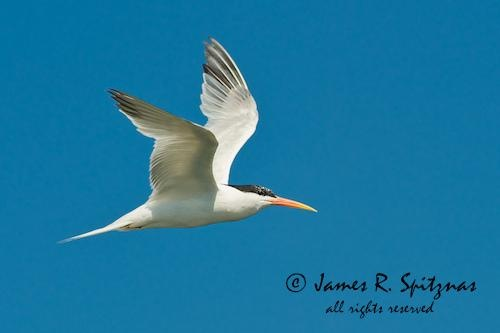bird: (58, 37, 317, 248)
